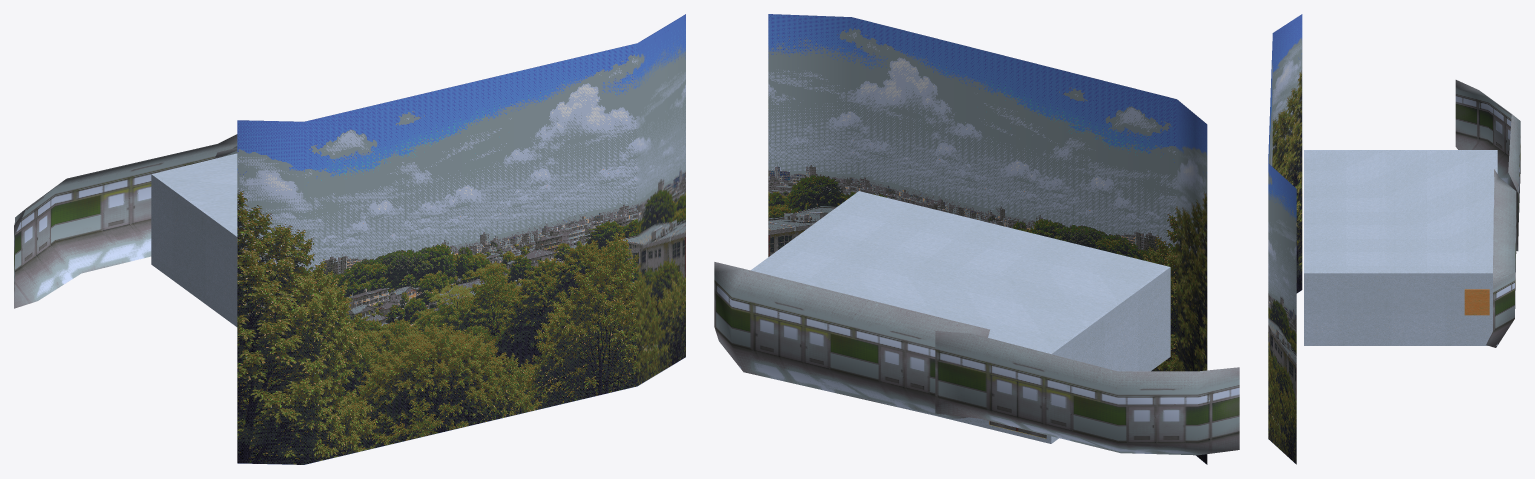
Rendered from classroom.glb.
3 views of the same model, side by side, from view 1: azimuth 30°, elevation 25°; view 2: azimuth 150°, elevation 25°; view 3: azimuth 270°, elevation 25° (orthographic). The views are drawn at different scales.
Parts seen in each view (by area): view 1: polySurface3621; view 2: polySurface3621; view 3: polySurface3621.
Boxes of the visible parts, left/top/right/bottom form: polySurface3621: left=14, top=14, right=685, bottom=464; polySurface3621: left=714, top=14, right=1239, bottom=464; polySurface3621: left=1268, top=14, right=1520, bottom=464.
Size of the model in its own units: 2.1 by 1.2 by 0.9986.
Materials: 24 (23 with a texture image).
